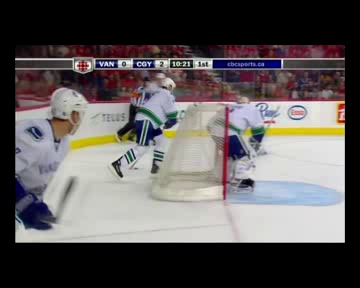normal: (108, 73, 183, 181), (202, 87, 277, 192)
